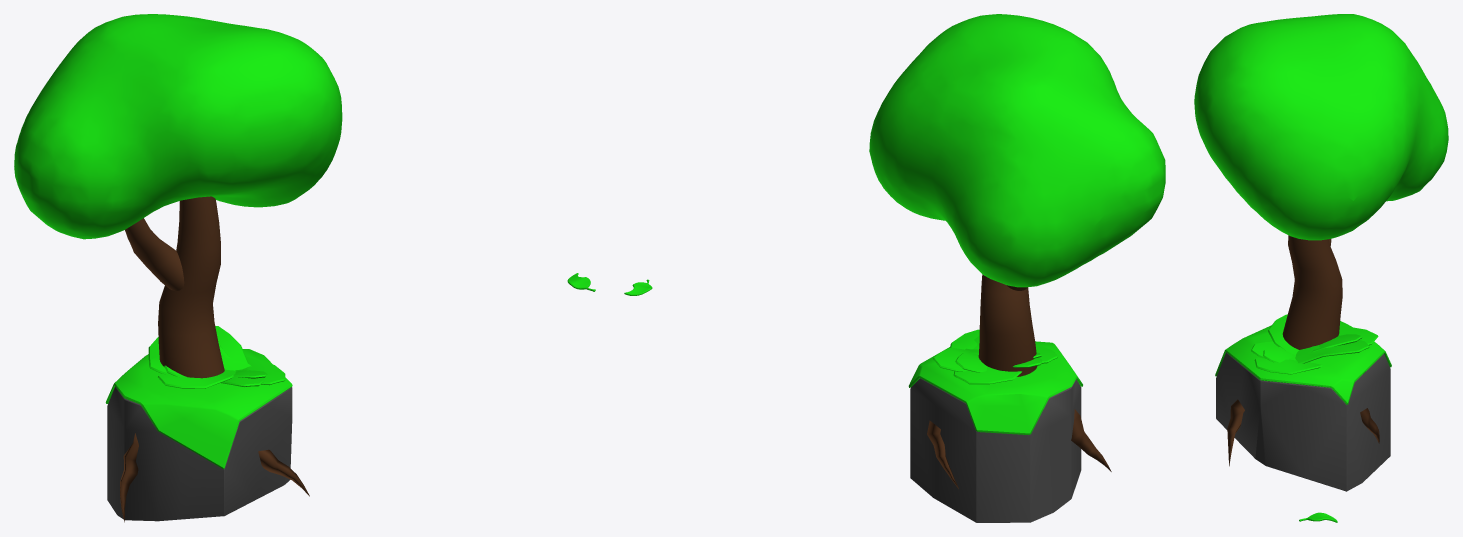
Rendered from ambient_nature_collection.dae.
3 renders of one model, left to right at view 1: azimuth 30°, elevation 25°; view 2: azimuth 150°, elevation 25°; view 3: azimuth 270°, elevation 25°, orthographic. The views are drawn at different scales.
Visible parts, largest first — view 1: Leaves, Rock, Trunk, Grass_Top, Grass_Puff, Root; view 2: Leaves, Rock, Grass_Top, Trunk, Grass_Puff, Root; view 3: Leaves, Rock, Trunk, Grass_Top, Grass_Puff, Root.
Part boxes in pixels (left/top/right/bottom): Leaves: left=14, top=14, right=342, bottom=239; Rock: left=107, top=386, right=292, bottom=521; Trunk: left=125, top=196, right=224, bottom=378; Grass_Top: left=105, top=349, right=292, bottom=468; Grass_Puff: left=148, top=326, right=285, bottom=388; Root: left=120, top=433, right=309, bottom=522; Leaves: left=869, top=14, right=1165, bottom=287; Rock: left=910, top=378, right=1081, bottom=522; Grass_Top: left=908, top=341, right=1082, bottom=434; Trunk: left=978, top=274, right=1037, bottom=376; Grass_Puff: left=933, top=329, right=1058, bottom=384; Root: left=927, top=409, right=1111, bottom=488; Leaves: left=1194, top=14, right=1448, bottom=240; Rock: left=1216, top=352, right=1390, bottom=491; Trunk: left=1282, top=235, right=1342, bottom=349; Grass_Top: left=1215, top=321, right=1391, bottom=404; Grass_Puff: left=1251, top=314, right=1378, bottom=374; Root: left=1227, top=399, right=1379, bottom=466.
Bounding box in the file's own units: 5.84 × 2.56 × 4.78.
